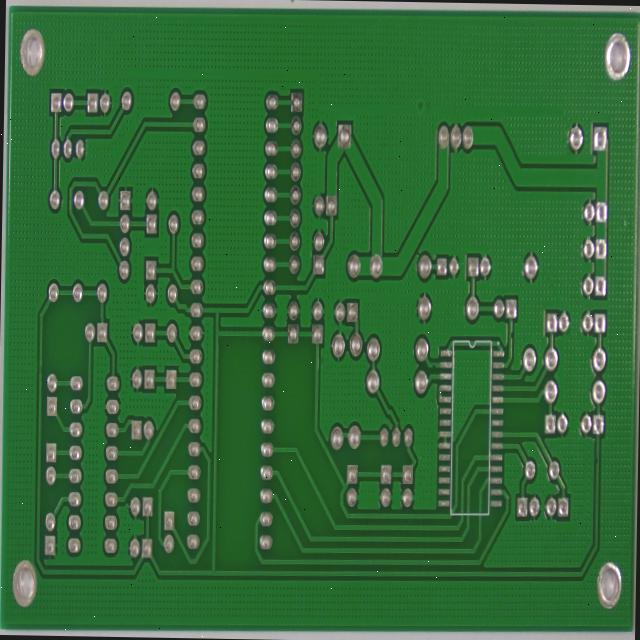mouse_bite: (496, 429, 504, 449), (413, 471, 420, 488), (589, 596, 595, 612)
